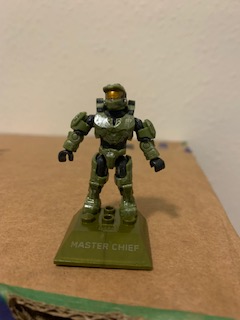chief: (54, 80, 165, 223)
spartan: (56, 82, 167, 225)
